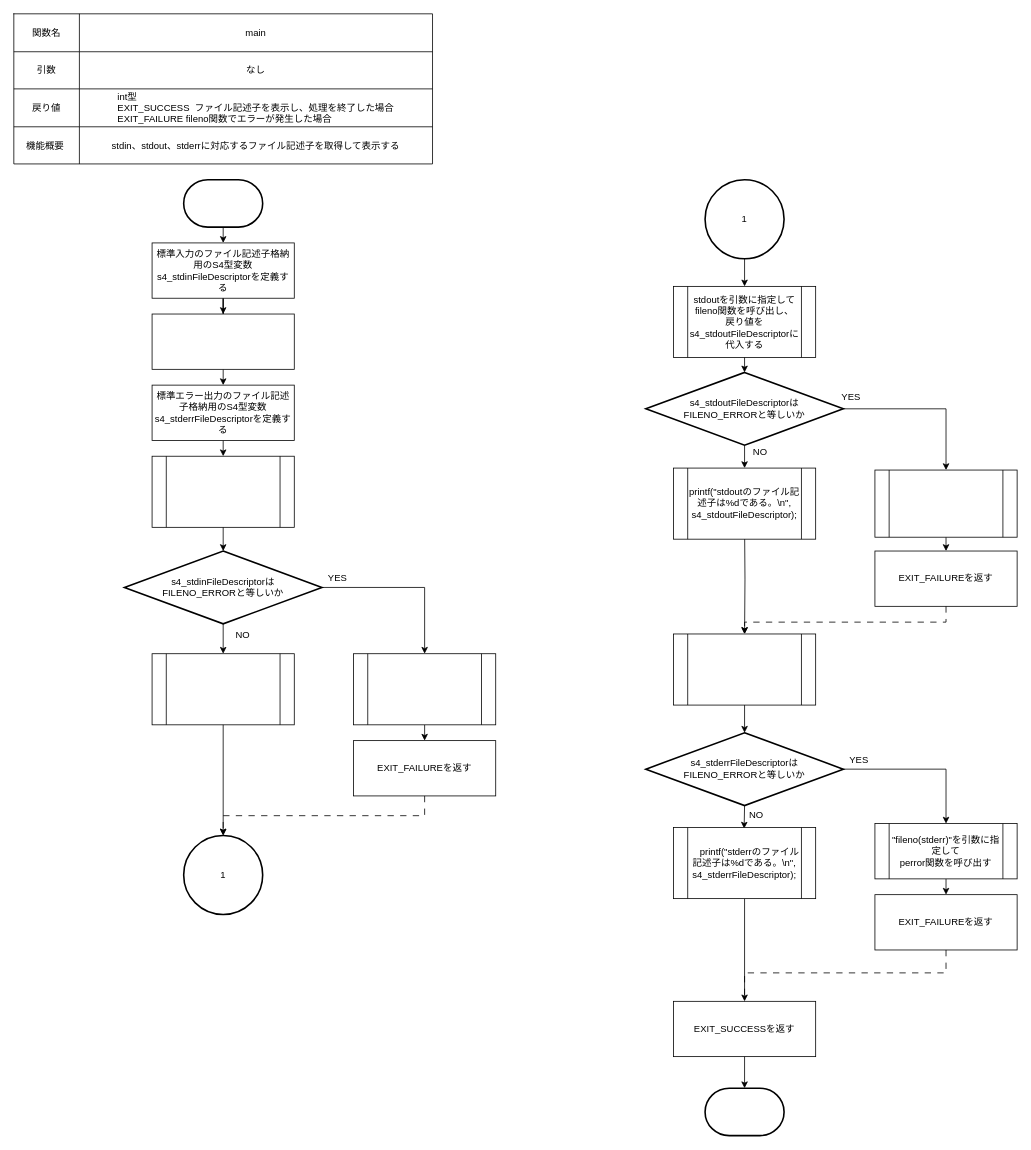
This 1031x1150 diagram has some shape labels left out. Here are the shapes that lost their labels. From the top down, the box of each, then its label:
(182, 179, 263, 228): 開始
(151, 313, 294, 369): 標準出力のファイル記述子格納用のS4型変数 s4_stdoutFileDescriptorを定義 する
(151, 455, 294, 527): stdinを引数に指定してfileno関数を呼び出し、 戻り値をs4_stdinFileDescriptorに代入する
(874, 469, 1017, 537): "fileno(stdout)"を引数に指定して perror関数を呼び出す
(151, 653, 294, 725): printf("stdinのファイル記述子は%dである。\n", s4_stdinFileDescriptor)
(353, 653, 496, 725): "fileno(stdin)"を引数に指定して perror関数を呼び出す
(673, 633, 816, 705): stderrを引数に指定してfileno関数を呼び出し、 戻り値をs4_stderrFileDescriptorに代入する
(704, 1087, 784, 1136): 終了
